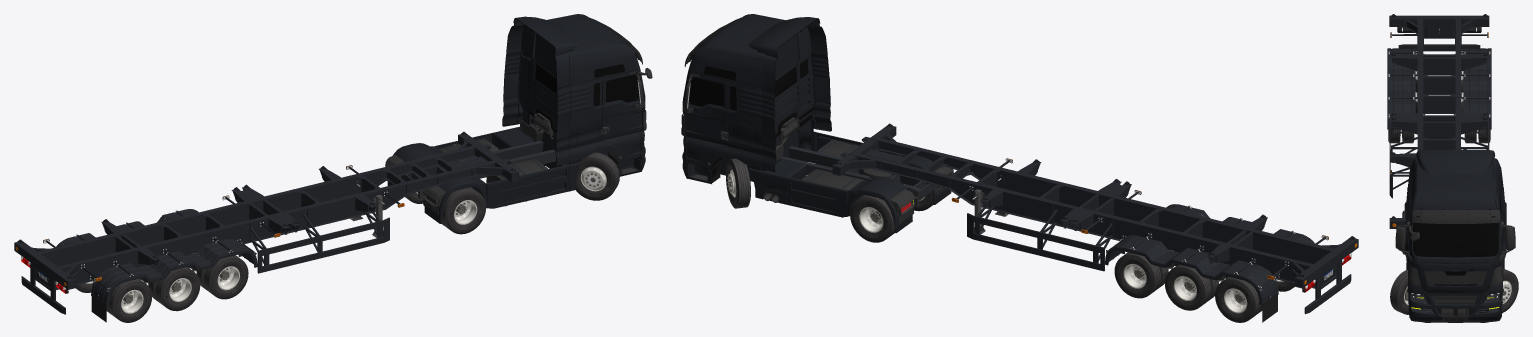
The model's file is truck.glb.
3 views of the same model, side by side, from view 1: azimuth 30°, elevation 25°; view 2: azimuth 150°, elevation 25°; view 3: azimuth 270°, elevation 25° (orthographic). The views are drawn at different scales.
Visible parts, largest first — view 1: Object_39, d75ac7d3-ea99-4386-8004-2b8b4d77a8ed.001_Grey_0, Object_38, d75ac7d3-ea99-4386-8004-2b8b4d77a8ed.015_Grey_0, d75ac7d3-ea99-4386-8004-2b8b4d77a8ed.011_Grey_0, Object_42, d75ac7d3-ea99-4386-8004-2b8b4d77a8ed.012_Grey_0, d75ac7d3-ea99-4386-8004-2b8b4d77a8ed_dark_0, d75ac7d3-ea99-4386-8004-2b8b4d77a8ed.003_Material_0, Object_41, d75ac7d3-ea99-4386-8004-2b8b4d77a8ed.015_Back Trailor_0, WHEEL_10 (+6 smaller); view 2: Object_39, d75ac7d3-ea99-4386-8004-2b8b4d77a8ed.001_Grey_0, Object_41, d75ac7d3-ea99-4386-8004-2b8b4d77a8ed.015_Grey_0, d75ac7d3-ea99-4386-8004-2b8b4d77a8ed.011_Grey_0, Object_42, d75ac7d3-ea99-4386-8004-2b8b4d77a8ed_dark_0, d75ac7d3-ea99-4386-8004-2b8b4d77a8ed.012_Grey_0, Object_38, d75ac7d3-ea99-4386-8004-2b8b4d77a8ed.015_Back Trailor_0, d75ac7d3-ea99-4386-8004-2b8b4d77a8ed.003_Material_0, WHEEL_10 (+5 smaller); view 3: d75ac7d3-ea99-4386-8004-2b8b4d77a8ed.001_Grey_0, Object_39, Object_38, Object_42, d75ac7d3-ea99-4386-8004-2b8b4d77a8ed.003_Material_0, d75ac7d3-ea99-4386-8004-2b8b4d77a8ed.011_Grey_0, Object_41, d75ac7d3-ea99-4386-8004-2b8b4d77a8ed.004_dark_0, d75ac7d3-ea99-4386-8004-2b8b4d77a8ed.010_dark_0, d75ac7d3-ea99-4386-8004-2b8b4d77a8ed.009_dark_0, WHEEL_02, WHEEL_07 (+14 smaller).
Boxes of the visible parts, x1=… form: Object_39: x1=38, y1=144, x2=503, y2=289; d75ac7d3-ea99-4386-8004-2b8b4d77a8ed.001_Grey_0: x1=517, y1=14, x2=645, y2=191; Object_38: x1=45, y1=152, x2=519, y2=305; d75ac7d3-ea99-4386-8004-2b8b4d77a8ed.015_Grey_0: x1=387, y1=127, x2=569, y2=223; d75ac7d3-ea99-4386-8004-2b8b4d77a8ed.011_Grey_0: x1=502, y1=16, x2=582, y2=165; Object_42: x1=14, y1=156, x2=487, y2=314; d75ac7d3-ea99-4386-8004-2b8b4d77a8ed.012_Grey_0: x1=519, y1=51, x2=608, y2=168; d75ac7d3-ea99-4386-8004-2b8b4d77a8ed_dark_0: x1=385, y1=78, x2=636, y2=214; d75ac7d3-ea99-4386-8004-2b8b4d77a8ed.003_Material_0: x1=535, y1=64, x2=638, y2=106; Object_41: x1=56, y1=131, x2=491, y2=246; d75ac7d3-ea99-4386-8004-2b8b4d77a8ed.015_Back Trailor_0: x1=403, y1=140, x2=555, y2=206; WHEEL_10: x1=406, y1=187, x2=486, y2=234; Object_39: x1=848, y1=136, x2=1334, y2=288; d75ac7d3-ea99-4386-8004-2b8b4d77a8ed.001_Grey_0: x1=682, y1=14, x2=815, y2=198; Object_41: x1=832, y1=145, x2=1278, y2=305; d75ac7d3-ea99-4386-8004-2b8b4d77a8ed.015_Grey_0: x1=761, y1=132, x2=951, y2=233; d75ac7d3-ea99-4386-8004-2b8b4d77a8ed.011_Grey_0: x1=748, y1=17, x2=831, y2=172; Object_42: x1=865, y1=149, x2=1358, y2=314; d75ac7d3-ea99-4386-8004-2b8b4d77a8ed_dark_0: x1=691, y1=80, x2=953, y2=223; d75ac7d3-ea99-4386-8004-2b8b4d77a8ed.012_Grey_0: x1=720, y1=53, x2=813, y2=181; Object_38: x1=832, y1=123, x2=1325, y2=288; d75ac7d3-ea99-4386-8004-2b8b4d77a8ed.015_Back Trailor_0: x1=775, y1=140, x2=934, y2=217; d75ac7d3-ea99-4386-8004-2b8b4d77a8ed.003_Material_0: x1=689, y1=66, x2=797, y2=110; WHEEL_10: x1=850, y1=192, x2=933, y2=242; d75ac7d3-ea99-4386-8004-2b8b4d77a8ed.001_Grey_0: x1=1406, y1=165, x2=1504, y2=322; Object_39: x1=1390, y1=19, x2=1460, y2=160; Object_38: x1=1387, y1=34, x2=1490, y2=228; Object_42: x1=1389, y1=14, x2=1490, y2=119; d75ac7d3-ea99-4386-8004-2b8b4d77a8ed.003_Material_0: x1=1410, y1=194, x2=1501, y2=257; d75ac7d3-ea99-4386-8004-2b8b4d77a8ed.011_Grey_0: x1=1404, y1=149, x2=1506, y2=258; Object_41: x1=1461, y1=48, x2=1491, y2=149; d75ac7d3-ea99-4386-8004-2b8b4d77a8ed.004_dark_0: x1=1395, y1=219, x2=1515, y2=316; d75ac7d3-ea99-4386-8004-2b8b4d77a8ed.010_dark_0: x1=1412, y1=209, x2=1500, y2=223; d75ac7d3-ea99-4386-8004-2b8b4d77a8ed.009_dark_0: x1=1424, y1=271, x2=1486, y2=285; WHEEL_02: x1=1502, y1=271, x2=1518, y2=312; WHEEL_07: x1=1390, y1=269, x2=1407, y2=313.
Size of the model in its own units: 16.28 by 4.1 by 3.32.
Materials: 41 (12 with a texture image).
